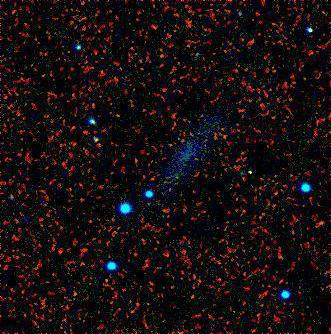star: (237, 157, 267, 187)
